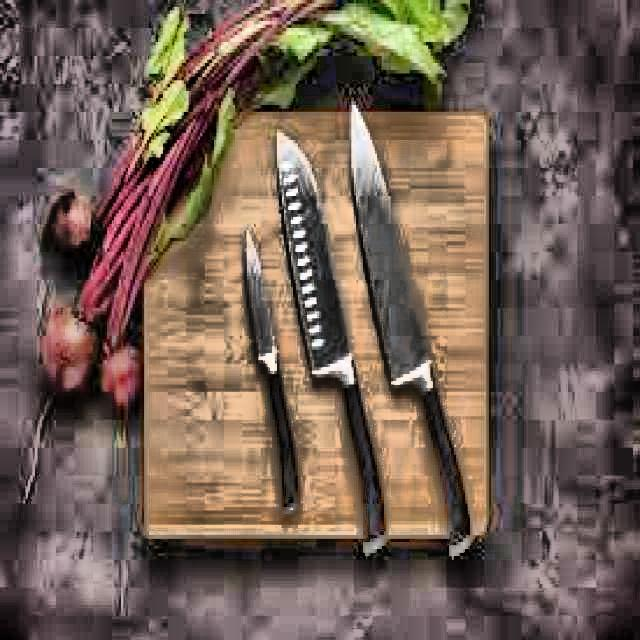knife: (344, 97, 480, 563), (268, 119, 392, 563), (240, 216, 315, 523)
